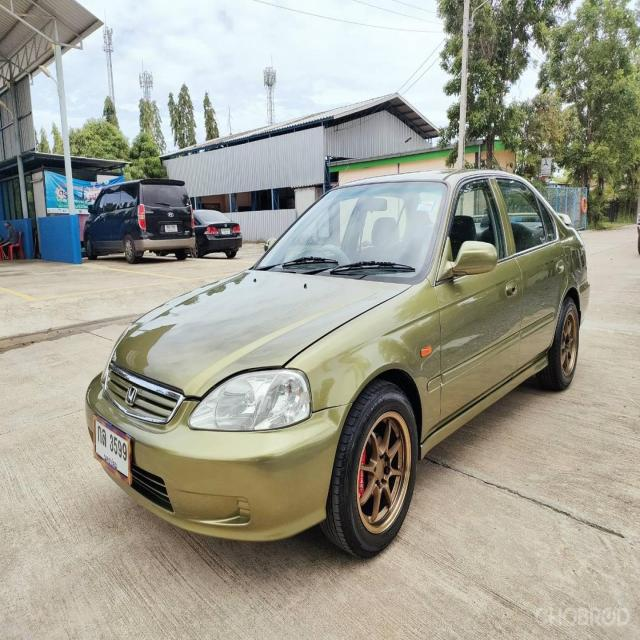license_plate: (93, 415, 135, 491)
